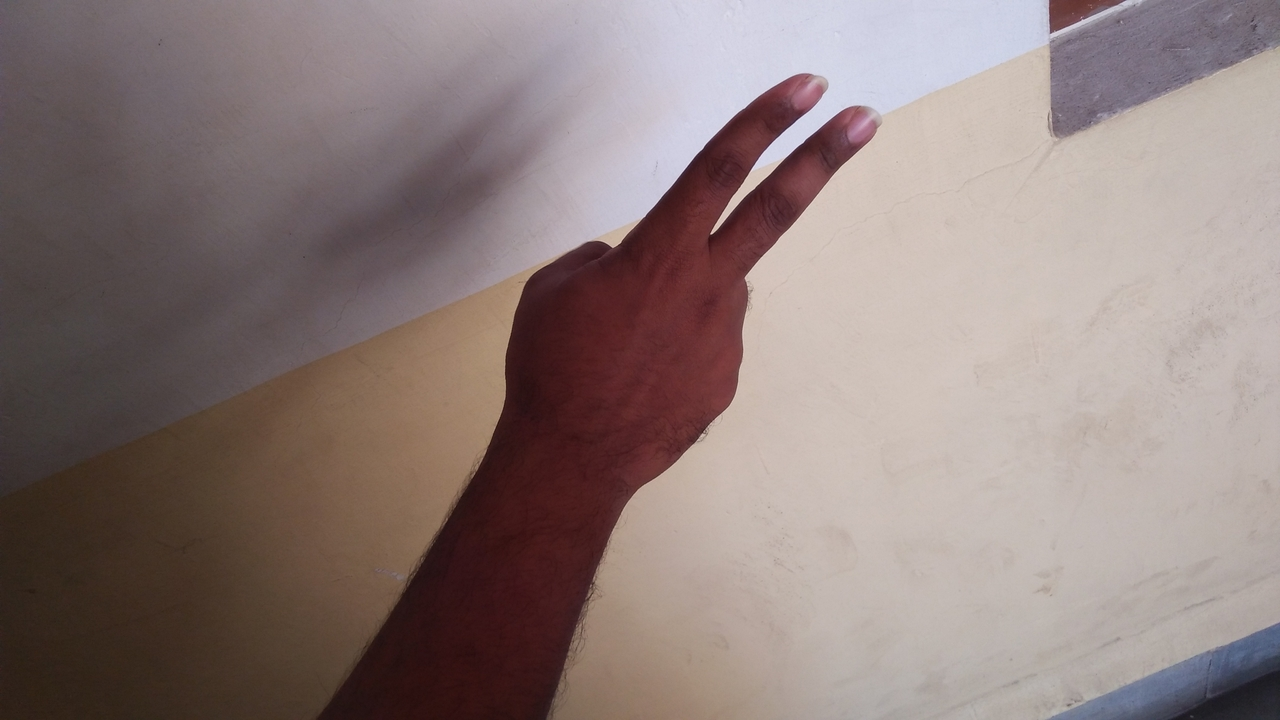fingertip: (818, 94, 896, 156), (760, 66, 832, 124)
